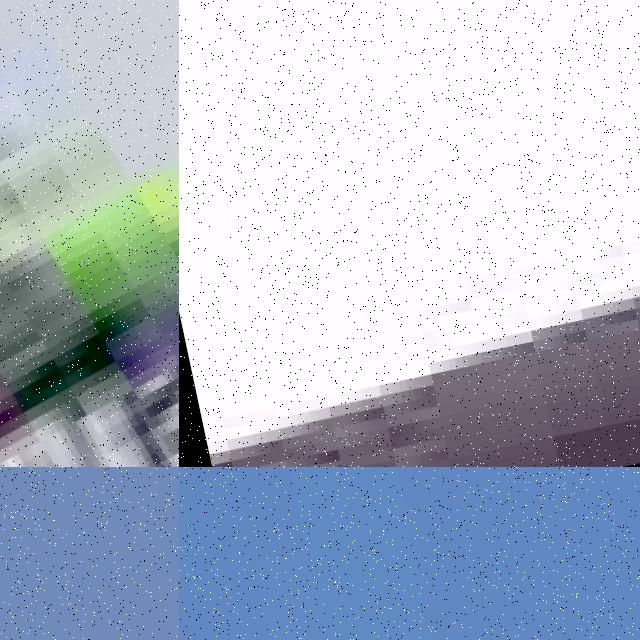drone: (0, 0, 179, 467)
